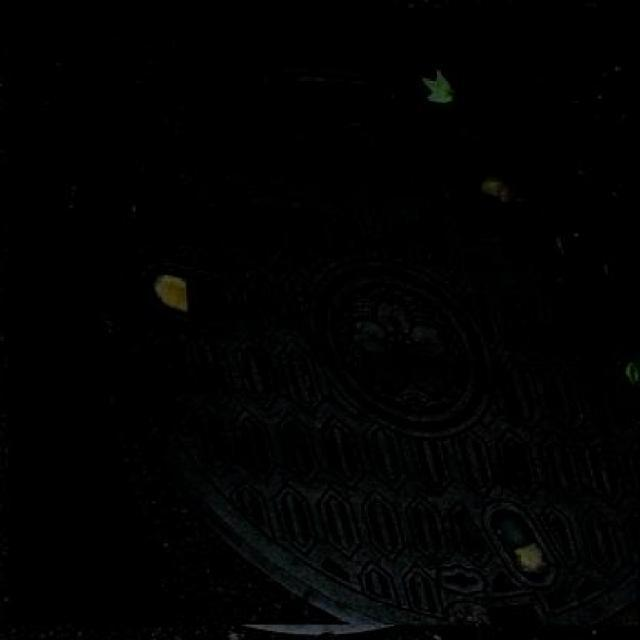Manhole: (7, 8, 638, 625)
